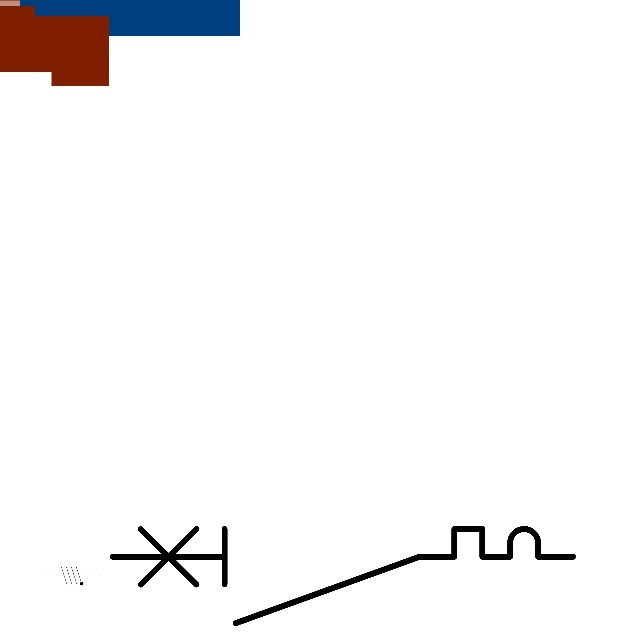interruptor_termomagnetico: (100, 517, 584, 635)
